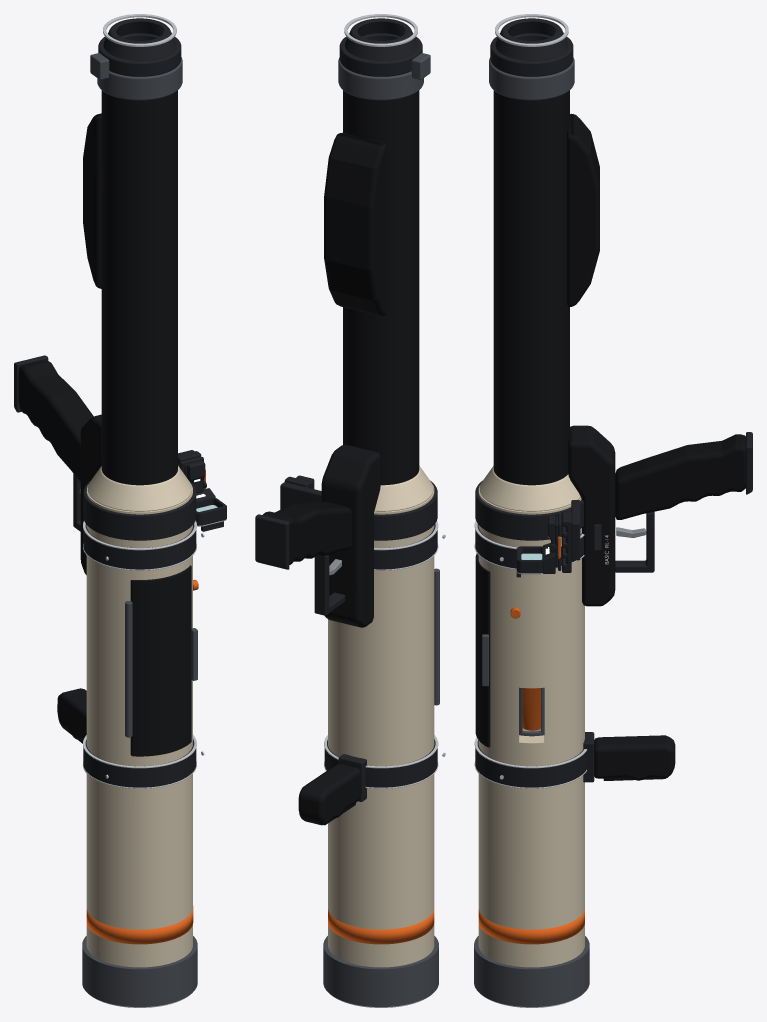
File: BASIC-14-v2.1.fbx
3 views of the same model, side by side, from view 1: azimuth 30°, elevation 25°; view 2: azimuth 150°, elevation 25°; view 3: azimuth 270°, elevation 25° (orthographic).
Visible parts, largest first — view 1: rear_tube, tube, load_hatch, muzzle, grip, breech_cap, sight_collar, tube_cone, shoulder_rest, clamp_2, clamp_1, rear_ring (+7 smaller); view 2: tube, rear_tube, shoulder_rest, lower, muzzle, breech_cap, grip, foregrip, rear_ring, sight_collar, clamp_2, grip_cap (+10 smaller); view 3: tube, rear_tube, grip, lower, shoulder_rest, muzzle, breech_cap, foregrip, tube_cone, load_hatch, clamp_2, sight_collar (+7 smaller).
Part boxes in pixels (x1,y1,x2,y2): rear_tube: (101,90,177,485); tube: (86,485,192,967); load_hatch: (130,565,191,756); muzzle: (82,936,197,1006); grip: (18,360,93,482); breech_cap: (98,18,181,76); sight_collar: (83,481,196,540); tube_cone: (87,466,192,511); shoulder_rest: (83,113,101,288); clamp_2: (83,739,196,787); clamp_1: (83,524,196,569); rear_ring: (97,57,182,100); tube: (328,485,434,967); rear_tube: (343,90,419,485); shoulder_rest: (324,132,386,316); lower: (321,444,380,627); muzzle: (323,936,438,1006); breech_cap: (339,18,422,76); grip: (262,502,352,564); foregrip: (298,764,361,825); rear_ring: (338,57,423,100); sight_collar: (374,480,437,540); clamp_2: (324,739,437,787); grip_cap: (255,514,289,569); tube: (478,485,584,967); rear_tube: (493,90,569,485); grip: (615,434,745,519); lower: (567,425,615,606); shoulder_rest: (566,113,599,307); muzzle: (474,936,589,1006); breech_cap: (490,18,573,76); foregrip: (594,735,675,780); tube_cone: (479,466,580,511); load_hatch: (475,553,490,747); clamp_2: (475,740,586,787); sight_collar: (475,480,583,540).
Bounding box in the file's own units: 0.1313 × 0.9105 × 0.2409.
